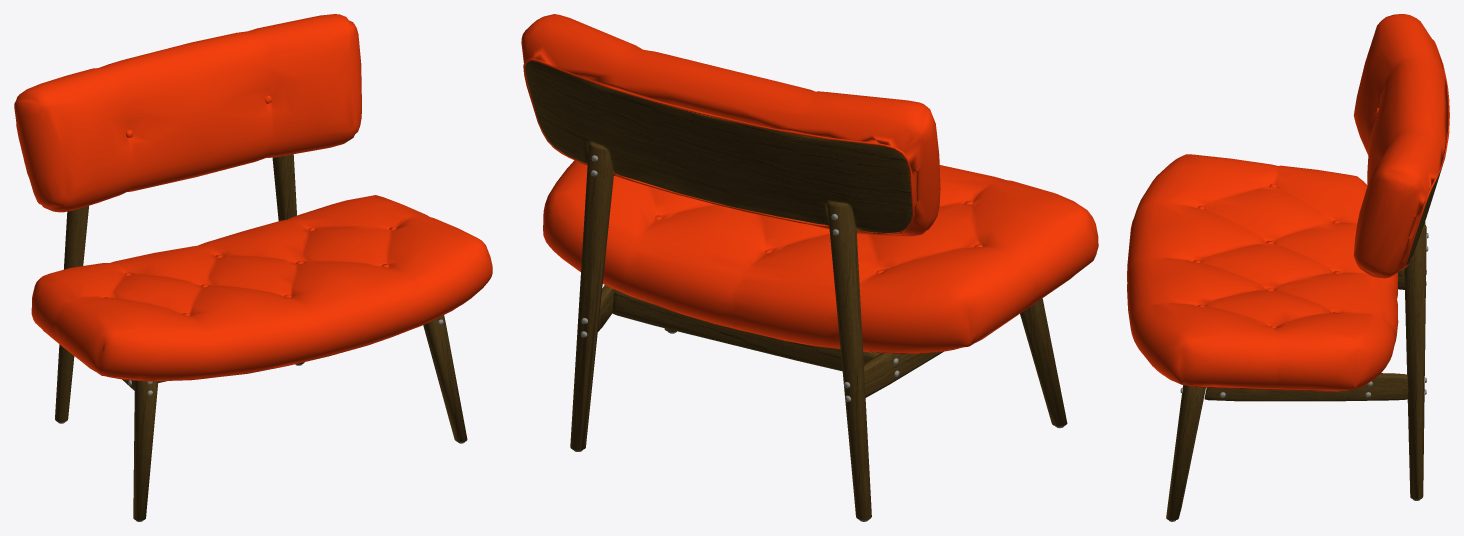
The model's file is fixtures-chair-velvet.glb.
3 renders of one model, left to right at view 1: azimuth 30°, elevation 25°; view 2: azimuth 150°, elevation 25°; view 3: azimuth 270°, elevation 25°, orthographic. The views are drawn at different scales.
Visible parts, largest first — view 1: SheenChair_fabric, SheenChair_wood; view 2: SheenChair_fabric, SheenChair_wood; view 3: SheenChair_fabric, SheenChair_wood.
Boxes of the visible parts, x1,y1,x2,y2 form: SheenChair_fabric: [14, 14, 492, 381]; SheenChair_wood: [55, 154, 467, 520]; SheenChair_fabric: [521, 14, 1098, 353]; SheenChair_wood: [525, 61, 1067, 520]; SheenChair_fabric: [1127, 14, 1449, 391]; SheenChair_wood: [1166, 169, 1441, 520].
Size of the model in its own units: 0.8265 by 0.686 by 0.5699.
3 materials, 1 textured.
